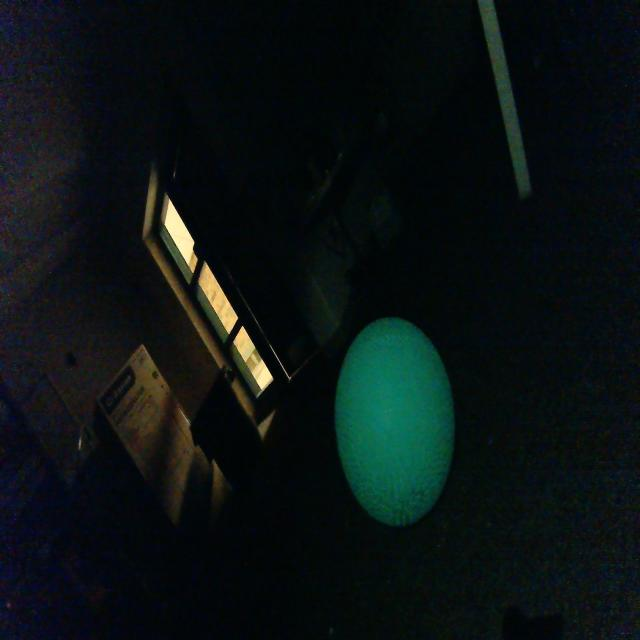algae: (332, 311, 458, 532)
